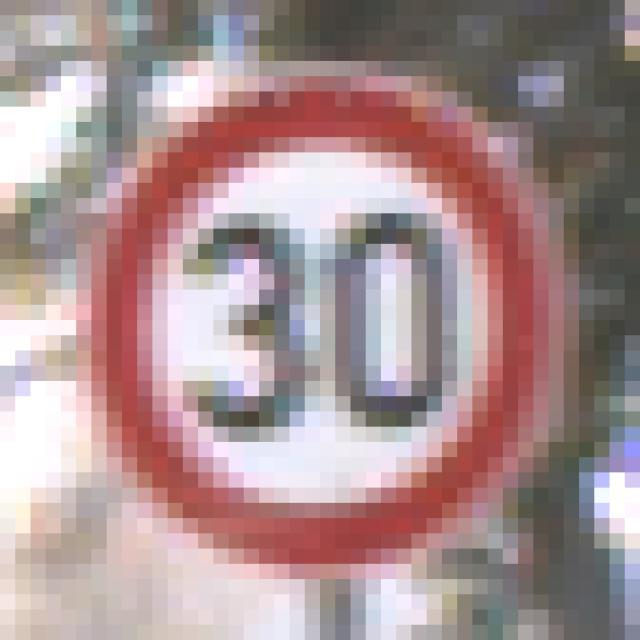Speed Limit -30-: (69, 69, 556, 556)
